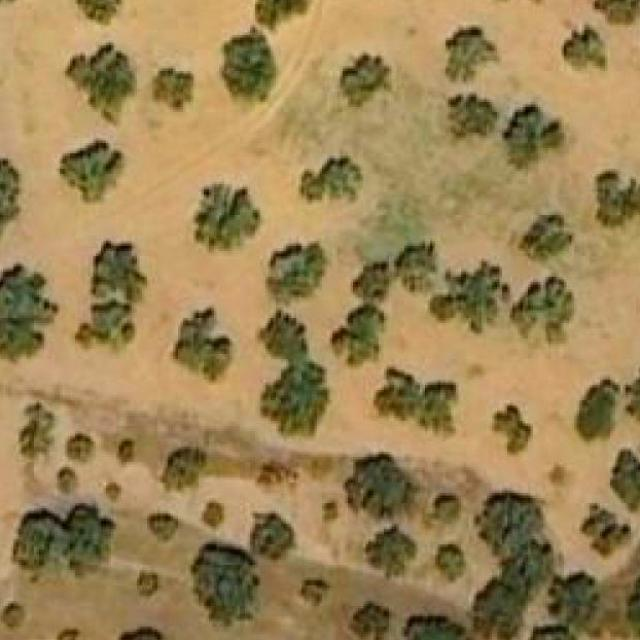Tree: (427, 262, 509, 336), (372, 364, 458, 434), (65, 43, 137, 126), (0, 262, 58, 364), (192, 542, 262, 625), (258, 364, 330, 438), (342, 454, 416, 524), (194, 182, 264, 254), (472, 488, 548, 552), (507, 272, 574, 344), (56, 138, 124, 203), (219, 28, 276, 105), (61, 506, 116, 582), (497, 542, 564, 603), (173, 308, 229, 380), (502, 105, 564, 170), (264, 243, 330, 302), (91, 240, 150, 306), (328, 306, 389, 368), (443, 25, 502, 84), (336, 51, 391, 112), (298, 155, 364, 205), (75, 302, 137, 354), (570, 378, 620, 442), (440, 97, 500, 148), (14, 514, 63, 576), (365, 529, 417, 580), (523, 213, 574, 264), (261, 311, 312, 360), (598, 174, 640, 232), (477, 588, 523, 640), (249, 511, 293, 563), (561, 22, 607, 71), (393, 241, 437, 292), (553, 573, 600, 620), (494, 403, 533, 458), (159, 446, 206, 491), (18, 403, 54, 458), (0, 158, 22, 244), (396, 616, 473, 640), (350, 262, 391, 304), (255, 0, 312, 30), (579, 0, 640, 28), (590, 514, 628, 558), (612, 452, 640, 511), (154, 69, 193, 110), (350, 601, 389, 640), (435, 544, 464, 584), (626, 366, 640, 440), (52, 465, 75, 507), (298, 578, 329, 609), (64, 433, 94, 462), (149, 514, 178, 542), (533, 623, 580, 640), (80, 0, 116, 22), (119, 626, 173, 640), (0, 603, 26, 632), (434, 493, 458, 522), (137, 573, 157, 599), (204, 501, 222, 527), (118, 438, 137, 457), (106, 483, 124, 501), (1, 0, 22, 11), (60, 628, 79, 640)
